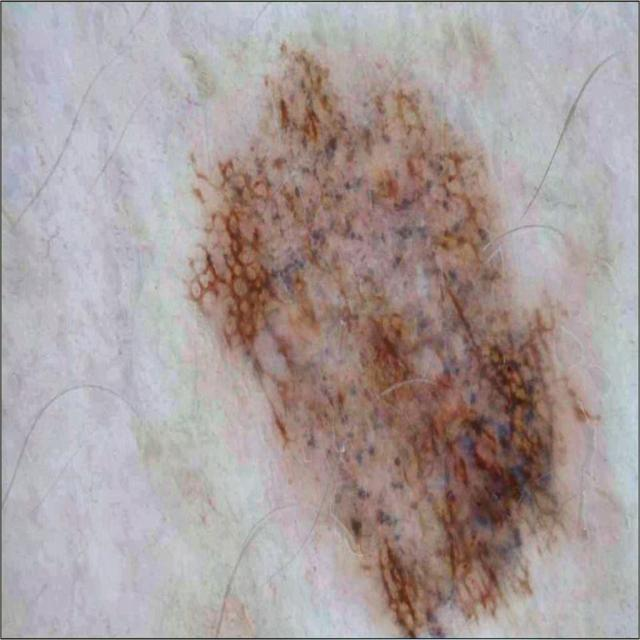Melanocytic-Nevi-NV-: (190, 47, 556, 633)
